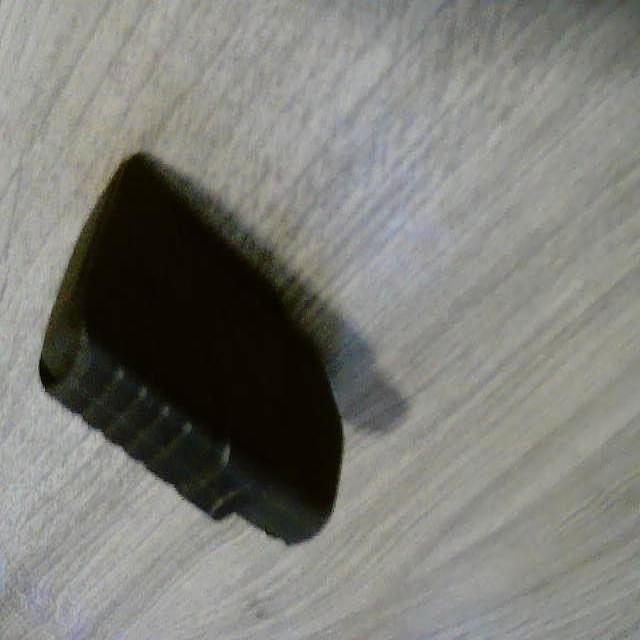borracha: (31, 132, 368, 574)
